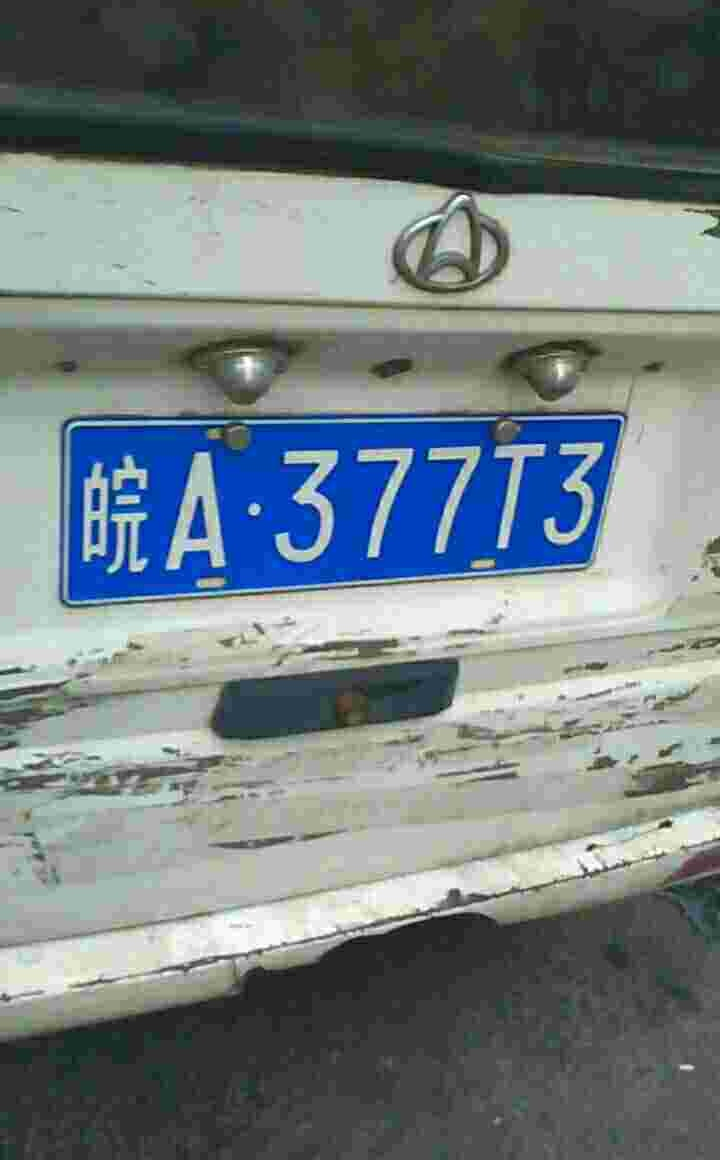car: (69, 411, 597, 569)
